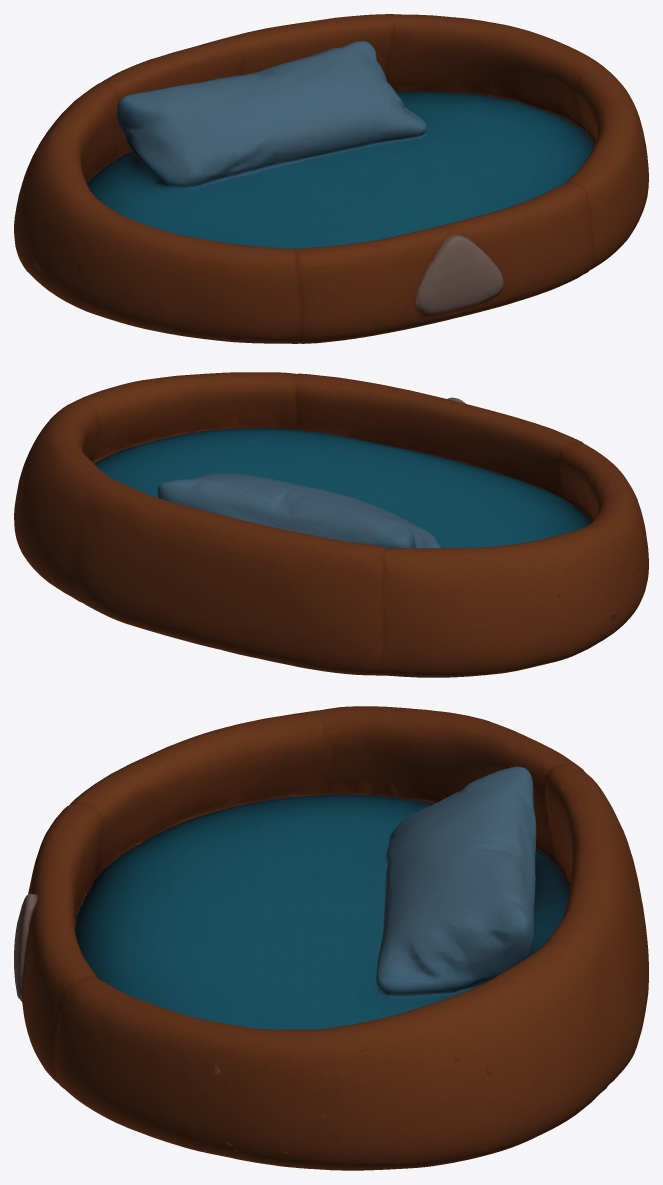
The model's file is cama.fbx.
The picture shows the model from 3 angles, top to bottom: view 1: azimuth 30°, elevation 25°; view 2: azimuth 150°, elevation 25°; view 3: azimuth 270°, elevation 25°; orthographic projection. The views are drawn at different scales.
Parts seen in each view (by area): view 1: geometry_0; view 2: geometry_0; view 3: geometry_0.
Boxes of the visible parts, left/top/right/bottom form: geometry_0: left=14, top=14, right=648, bottom=343; geometry_0: left=14, top=372, right=648, bottom=677; geometry_0: left=14, top=706, right=648, bottom=1170.
Bounding box in the file's own units: 0.9999 × 0.2032 × 0.7441.
1 material, 1 textured.
